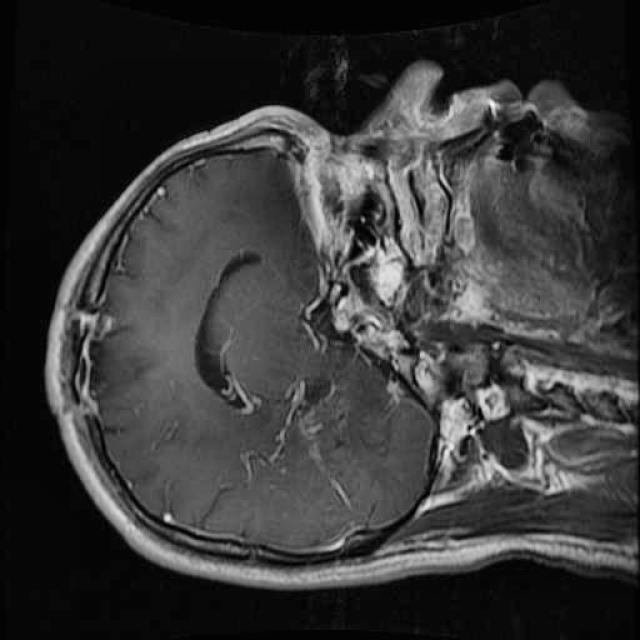Tumor: (59, 288, 162, 414)
